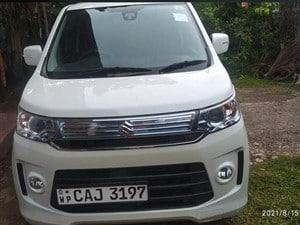license-plate: (55, 184, 148, 203)
